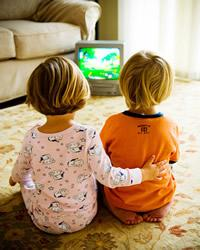person: (9, 56, 167, 234)
